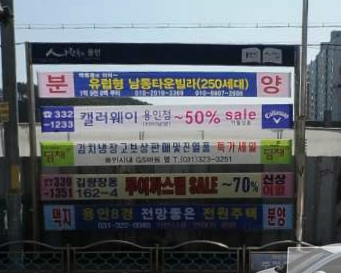banner: (25, 195, 310, 233), (23, 101, 309, 136), (27, 66, 310, 100), (28, 137, 311, 169), (27, 172, 310, 203)
